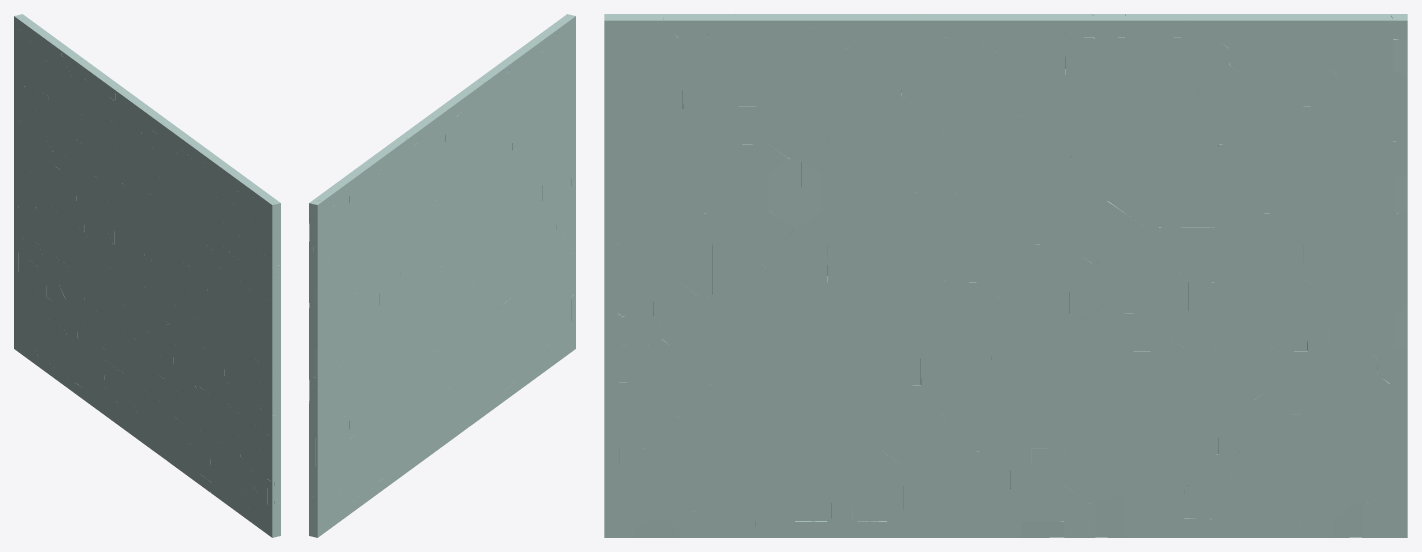
The model's file is Glass Wall_piece4.fbx.
3 views of the same model, side by side, from view 1: azimuth 30°, elevation 25°; view 2: azimuth 150°, elevation 25°; view 3: azimuth 270°, elevation 25° (orthographic). The views are drawn at different scales.
Parts seen in each view (by area): view 1: Cube_cell, Cube_cell.028, Cube_cell.172, Cube_cell.152, Cube_cell.021, Cube_cell.225, Cube_cell.476, Cube_cell.288, Cube_cell.182, Cube_cell.428, Cube_cell.185, Cube_cell.042 (+98 smaller); view 2: Cube_cell, Cube_cell.028, Cube_cell.172, Cube_cell.152, Cube_cell.225, Cube_cell.021, Cube_cell.278, Cube_cell.476, Cube_cell.288, Cube_cell.428, Cube_cell.185, Cube_cell.042 (+101 smaller); view 3: Cube_cell.172, Cube_cell.030, Cube_cell.226, Cube_cell.100, Cube_cell.490, Cube_cell.459, Cube_cell.397, Cube_cell.028, Cube_cell.219, Cube_cell.227, Cube_cell.021, Cube_cell.087 (+246 smaller).
Part boxes in pixels (x1,y1,x2,y2): Cube_cell: (104,360,125,402); Cube_cell.028: (219,318,238,357); Cube_cell.172: (196,162,214,202); Cube_cell.152: (118,148,138,187); Cube_cell.021: (205,341,224,377); Cube_cell.225: (195,318,220,351); Cube_cell.476: (210,287,229,324); Cube_cell.288: (224,348,238,391); Cube_cell.182: (199,246,211,293); Cube_cell.428: (234,457,253,491); Cube_cell.185: (176,150,196,184); Cube_cell.042: (109,245,123,288); Cube_cell: (408,402,428,442); Cube_cell.028: (523,185,542,228); Cube_cell.172: (500,71,518,111); Cube_cell.152: (422,172,441,213); Cube_cell.225: (499,219,524,260); Cube_cell.021: (509,226,527,272); Cube_cell.278: (309,472,331,506); Cube_cell.476: (514,169,532,212); Cube_cell.288: (528,218,542,258); Cube_cell.428: (537,309,556,344); Cube_cell.185: (479,87,499,120); Cube_cell.042: (413,285,427,323); Cube_cell.172: (783,27,844,89); Cube_cell.030: (1065,451,1124,503); Cube_cell.226: (766,226,827,282); Cube_cell.100: (1020,104,1080,158); Cube_cell.490: (708,295,755,348); Cube_cell.459: (1125,451,1188,488); Cube_cell.397: (831,69,901,116); Cube_cell.028: (712,244,766,294); Cube_cell.219: (1097,227,1158,279); Cube_cell.227: (734,210,793,267); Cube_cell.021: (755,289,812,345); Cube_cell.087: (1229,345,1277,399).
Bounding box in the file's own units: 7.4 × 273 × 384.
